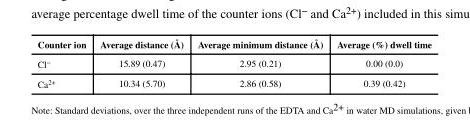table: (36, 37, 431, 89)
table column: (189, 37, 329, 89), (329, 37, 431, 89), (92, 37, 189, 89), (36, 37, 92, 89)
table column header: (36, 37, 431, 53)
table row: (36, 53, 431, 72), (36, 72, 431, 89), (36, 37, 431, 53)
